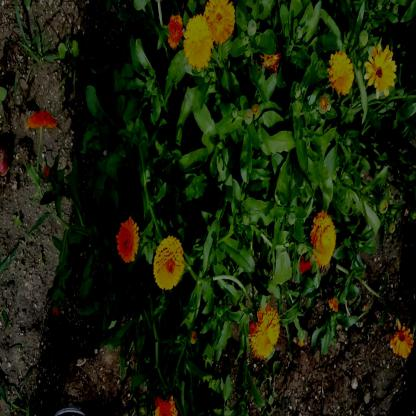marigold: (183, 13, 214, 69), (153, 237, 183, 291), (251, 307, 282, 358), (366, 45, 398, 92), (205, 0, 236, 46), (311, 213, 336, 264), (115, 216, 138, 263), (330, 51, 352, 94)
